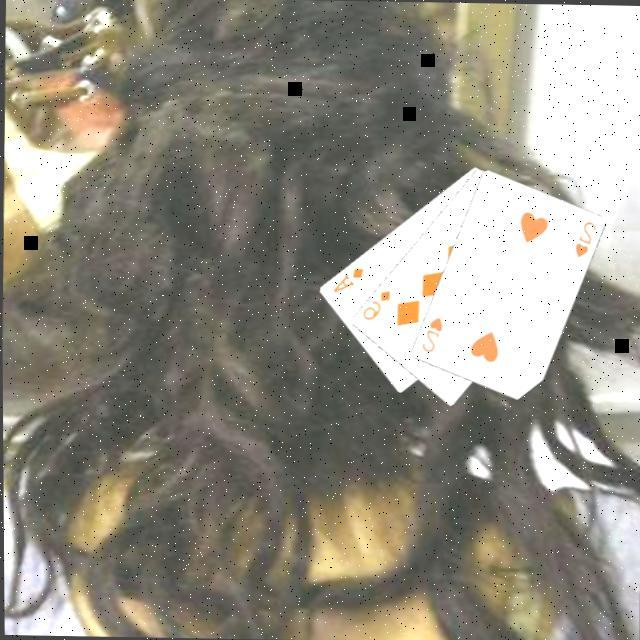2H: (419, 312, 447, 354), (572, 217, 600, 259)
9D: (360, 286, 394, 322)
AD: (330, 262, 367, 296)
